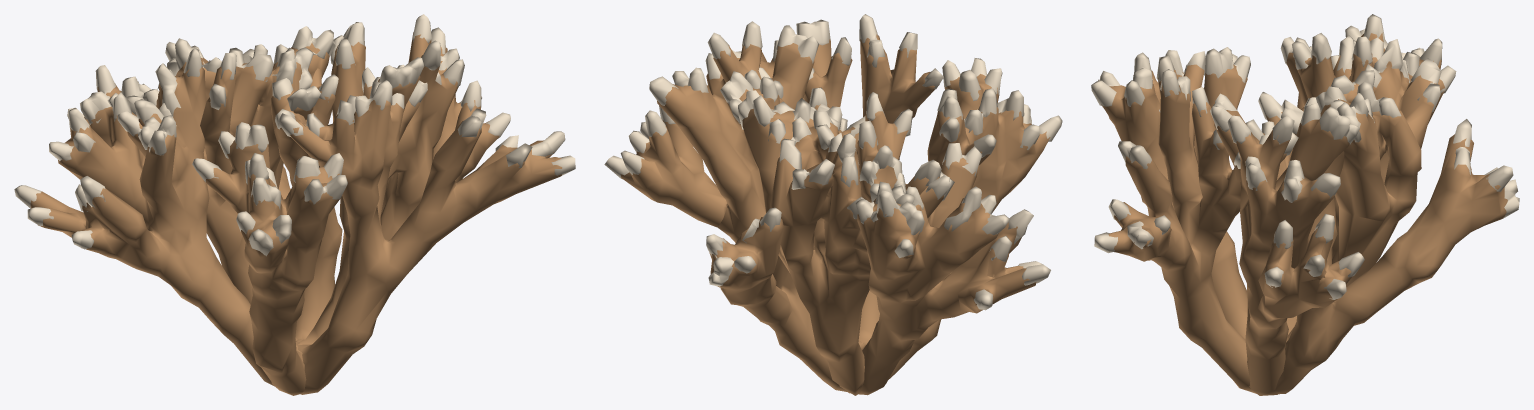
Rendered from staghorn.glb.
3 renders of one model, left to right at view 1: azimuth 30°, elevation 25°; view 2: azimuth 150°, elevation 25°; view 3: azimuth 270°, elevation 25°, orthographic. The views are drawn at different scales.
Parts seen in each view (by area): view 1: branches1, branches3, branches2, branches0, branches4, tips3, tips4, tips2, branches5, tips0, tips1, tips5; view 2: branches4, branches3, branches0, branches5, tips3, tips4, branches2, branches1, tips0, tips2, tips1, tips5; view 3: branches1, branches0, branches5, branches4, tips0, branches2, tips4, tips1, tips3, tips2, tips5, branches3.
Boxes of the visible parts, x1=… form: branches1: x1=290, y1=83, x2=562, y2=394; branches3: x1=30, y1=67, x2=274, y2=386; branches2: x1=203, y1=140, x2=341, y2=395; branches0: x1=295, y1=32, x2=499, y2=344; branches4: x1=127, y1=43, x2=329, y2=340; tips3: x1=14, y1=47, x2=202, y2=249; tips4: x1=107, y1=26, x2=335, y2=149; tips2: x1=192, y1=122, x2=347, y2=256; branches5: x1=271, y1=68, x2=342, y2=341; tips0: x1=330, y1=14, x2=510, y2=138; tips1: x1=278, y1=67, x2=575, y2=175; tips5: x1=208, y1=60, x2=355, y2=136; branches4: x1=742, y1=108, x2=943, y2=395; branches3: x1=848, y1=138, x2=1036, y2=395; branches0: x1=620, y1=43, x2=861, y2=342; branches5: x1=709, y1=104, x2=858, y2=392; tips3: x1=855, y1=121, x2=1050, y2=310; tips4: x1=738, y1=90, x2=954, y2=219; branches2: x1=863, y1=74, x2=1050, y2=379; branches1: x1=737, y1=34, x2=939, y2=394; tips0: x1=604, y1=21, x2=818, y2=179; tips2: x1=937, y1=58, x2=1062, y2=157; tips1: x1=732, y1=14, x2=943, y2=89; tips5: x1=706, y1=87, x2=865, y2=286; branches1: x1=1108, y1=64, x2=1286, y2=393; branches0: x1=1214, y1=110, x2=1352, y2=395; branches5: x1=1253, y1=107, x2=1507, y2=394; branches4: x1=1286, y1=55, x2=1436, y2=341; tips0: x1=1210, y1=93, x2=1364, y2=299; branches2: x1=1101, y1=64, x2=1247, y2=339; tips4: x1=1281, y1=33, x2=1441, y2=142; tips1: x1=1094, y1=51, x2=1298, y2=253; tips3: x1=1280, y1=14, x2=1456, y2=93; tips2: x1=1091, y1=47, x2=1250, y2=112; tips5: x1=1245, y1=92, x2=1519, y2=218; branches3: x1=1286, y1=33, x2=1444, y2=334.
Bounding box in the file's own units: 1.32 × 0.9459 × 1.07.
